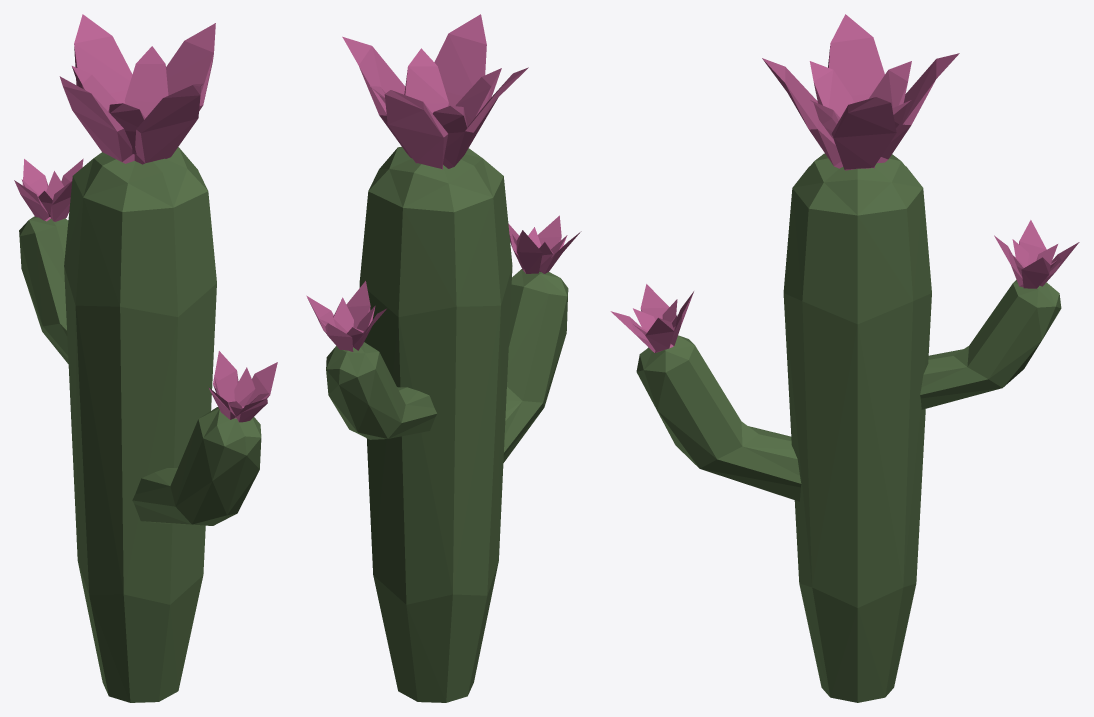
File: CactusFlowers_3.lod1.glb
The picture shows the model from 3 angles, left to right: view 1: azimuth 30°, elevation 25°; view 2: azimuth 150°, elevation 25°; view 3: azimuth 270°, elevation 25°; orthographic projection.
Parts seen in each view (by area): view 1: CactusFlowers_3; view 2: CactusFlowers_3; view 3: CactusFlowers_3.
Part boxes in pixels (x1,y1,x2,y2): CactusFlowers_3: (14, 14, 277, 702); CactusFlowers_3: (306, 14, 581, 702); CactusFlowers_3: (610, 14, 1079, 702).
Bounding box in the file's own units: 0.4634 × 1.66 × 1.11.
